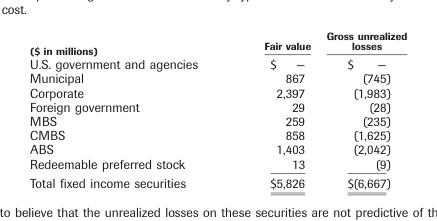table: (29, 28, 406, 190)
table column: (29, 28, 230, 190), (317, 28, 406, 190), (230, 28, 317, 190)
table column header: (29, 28, 406, 56)
table row: (29, 28, 406, 56), (29, 172, 406, 190), (29, 156, 406, 172), (29, 70, 406, 85), (29, 141, 406, 156), (29, 56, 406, 70), (29, 85, 406, 99), (29, 99, 406, 113), (29, 113, 406, 127), (29, 127, 406, 141)
